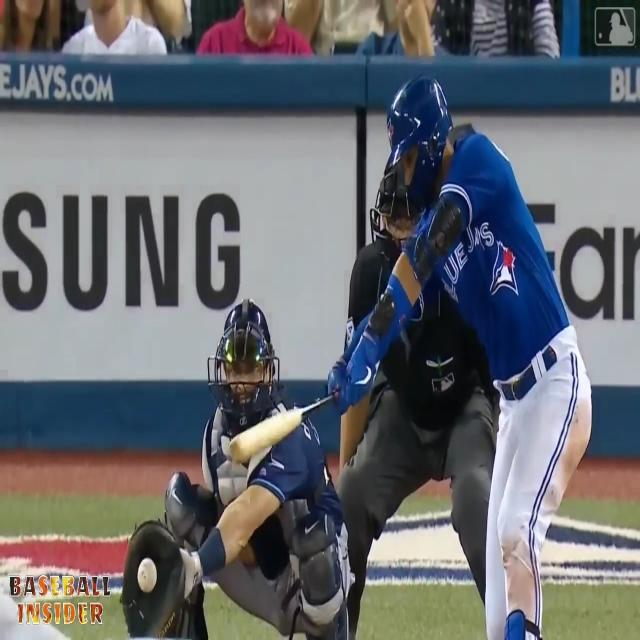baseball: (136, 556, 158, 593)
